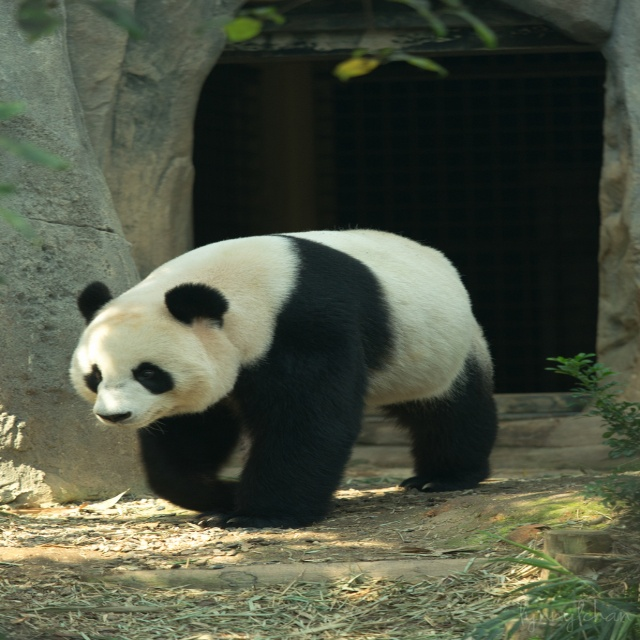Panda: (65, 226, 501, 528)
